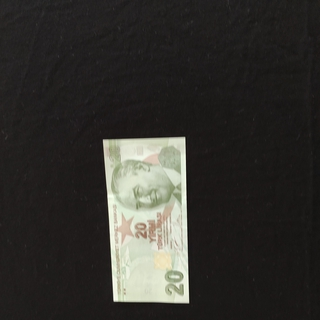20TLFront: (101, 136, 190, 304)
